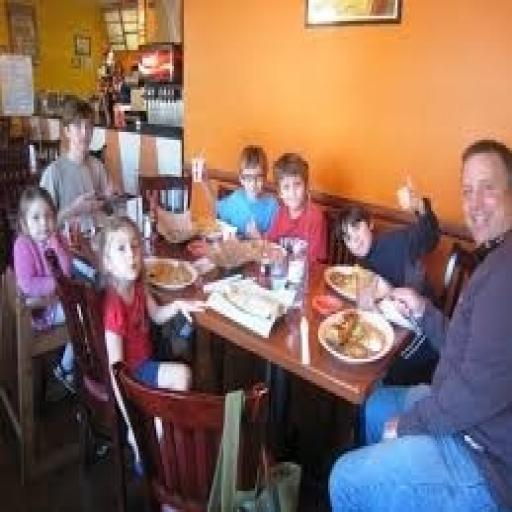eating: (8, 92, 510, 507)
